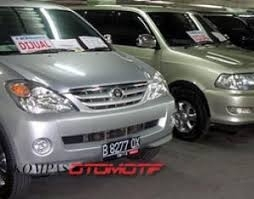plate: (102, 138, 142, 156)
